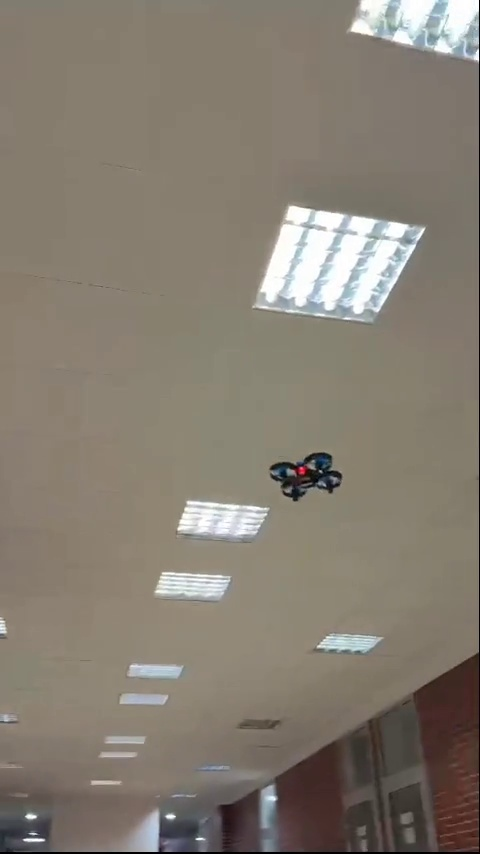drone: (270, 449, 337, 506)
